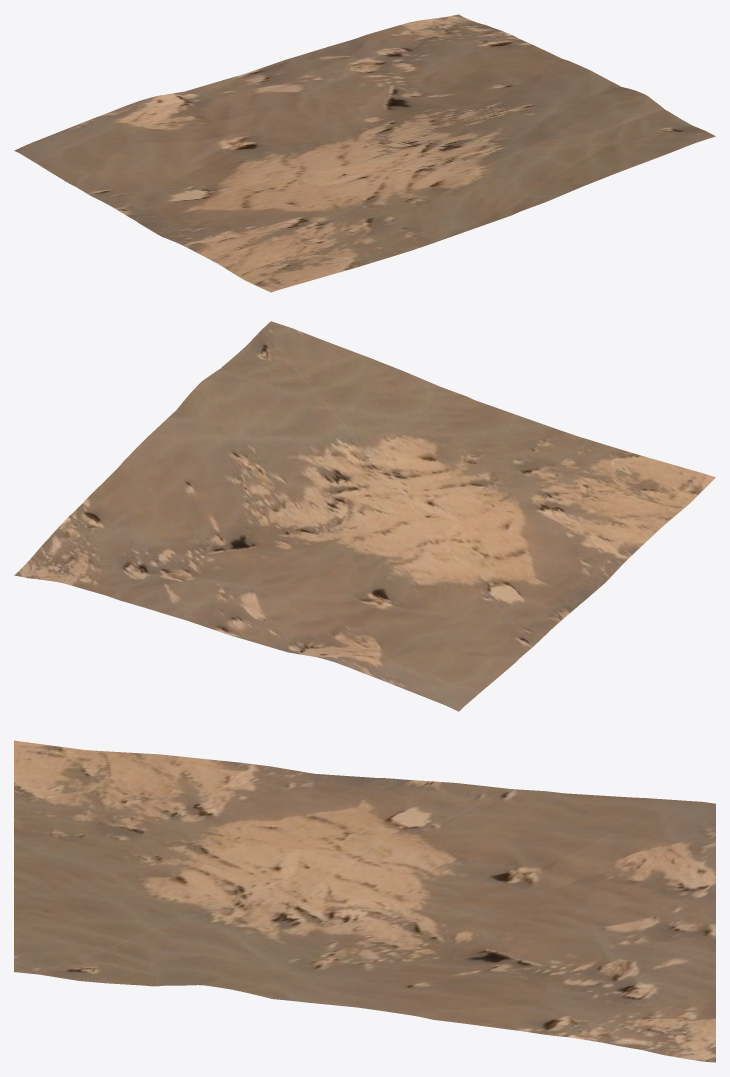
The picture shows the model from 3 angles, top to bottom: view 1: azimuth 30°, elevation 25°; view 2: azimuth 150°, elevation 25°; view 3: azimuth 270°, elevation 25°; orthographic projection. The views are drawn at different scales.
Bounding box in the file's own units: 1.04 × 0.2106 × 1.04.
Materials: 3 (3 with a texture image).
